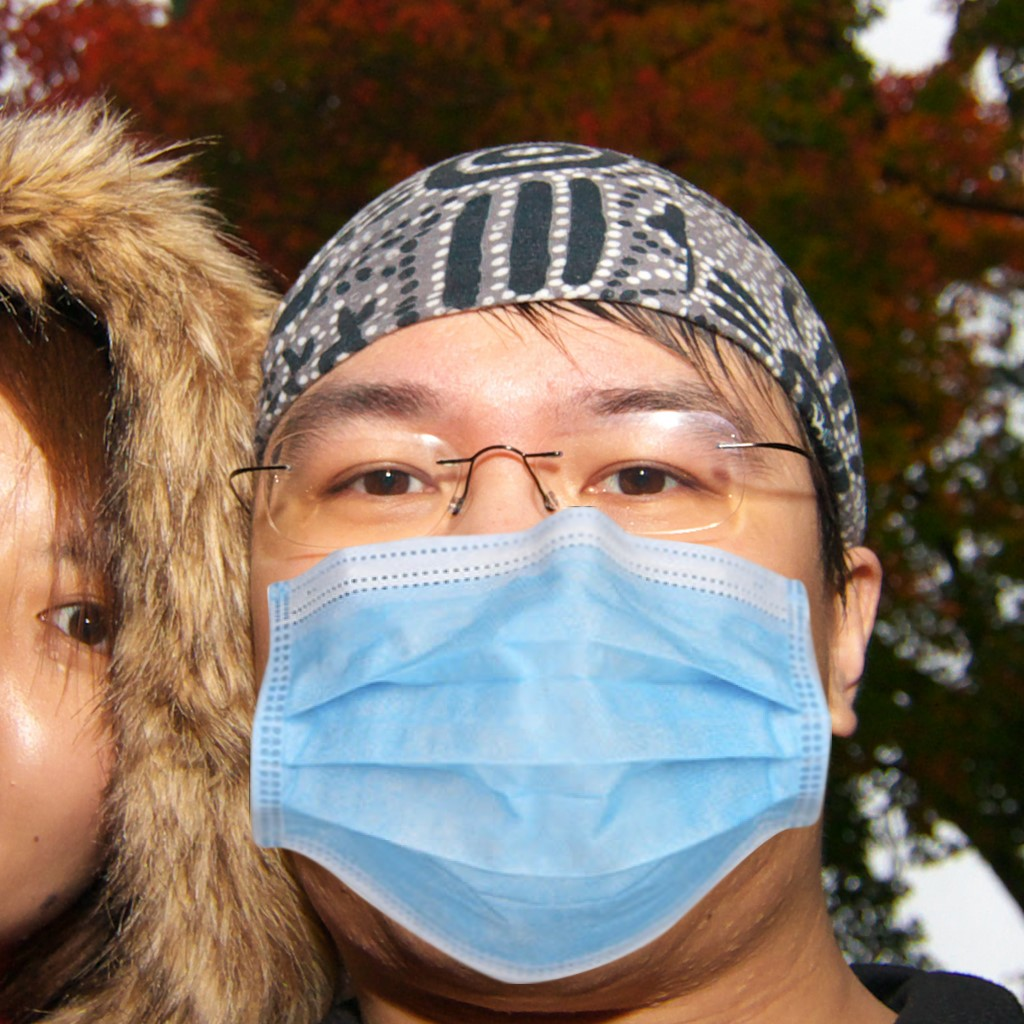con_mascara: (275, 208, 815, 977)
